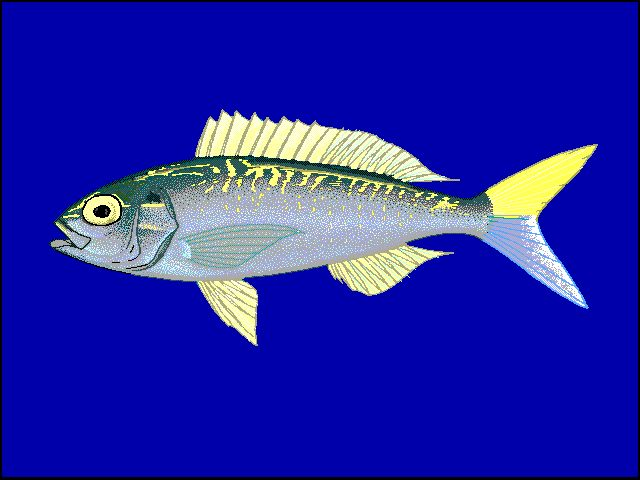fish: (48, 107, 599, 350)
